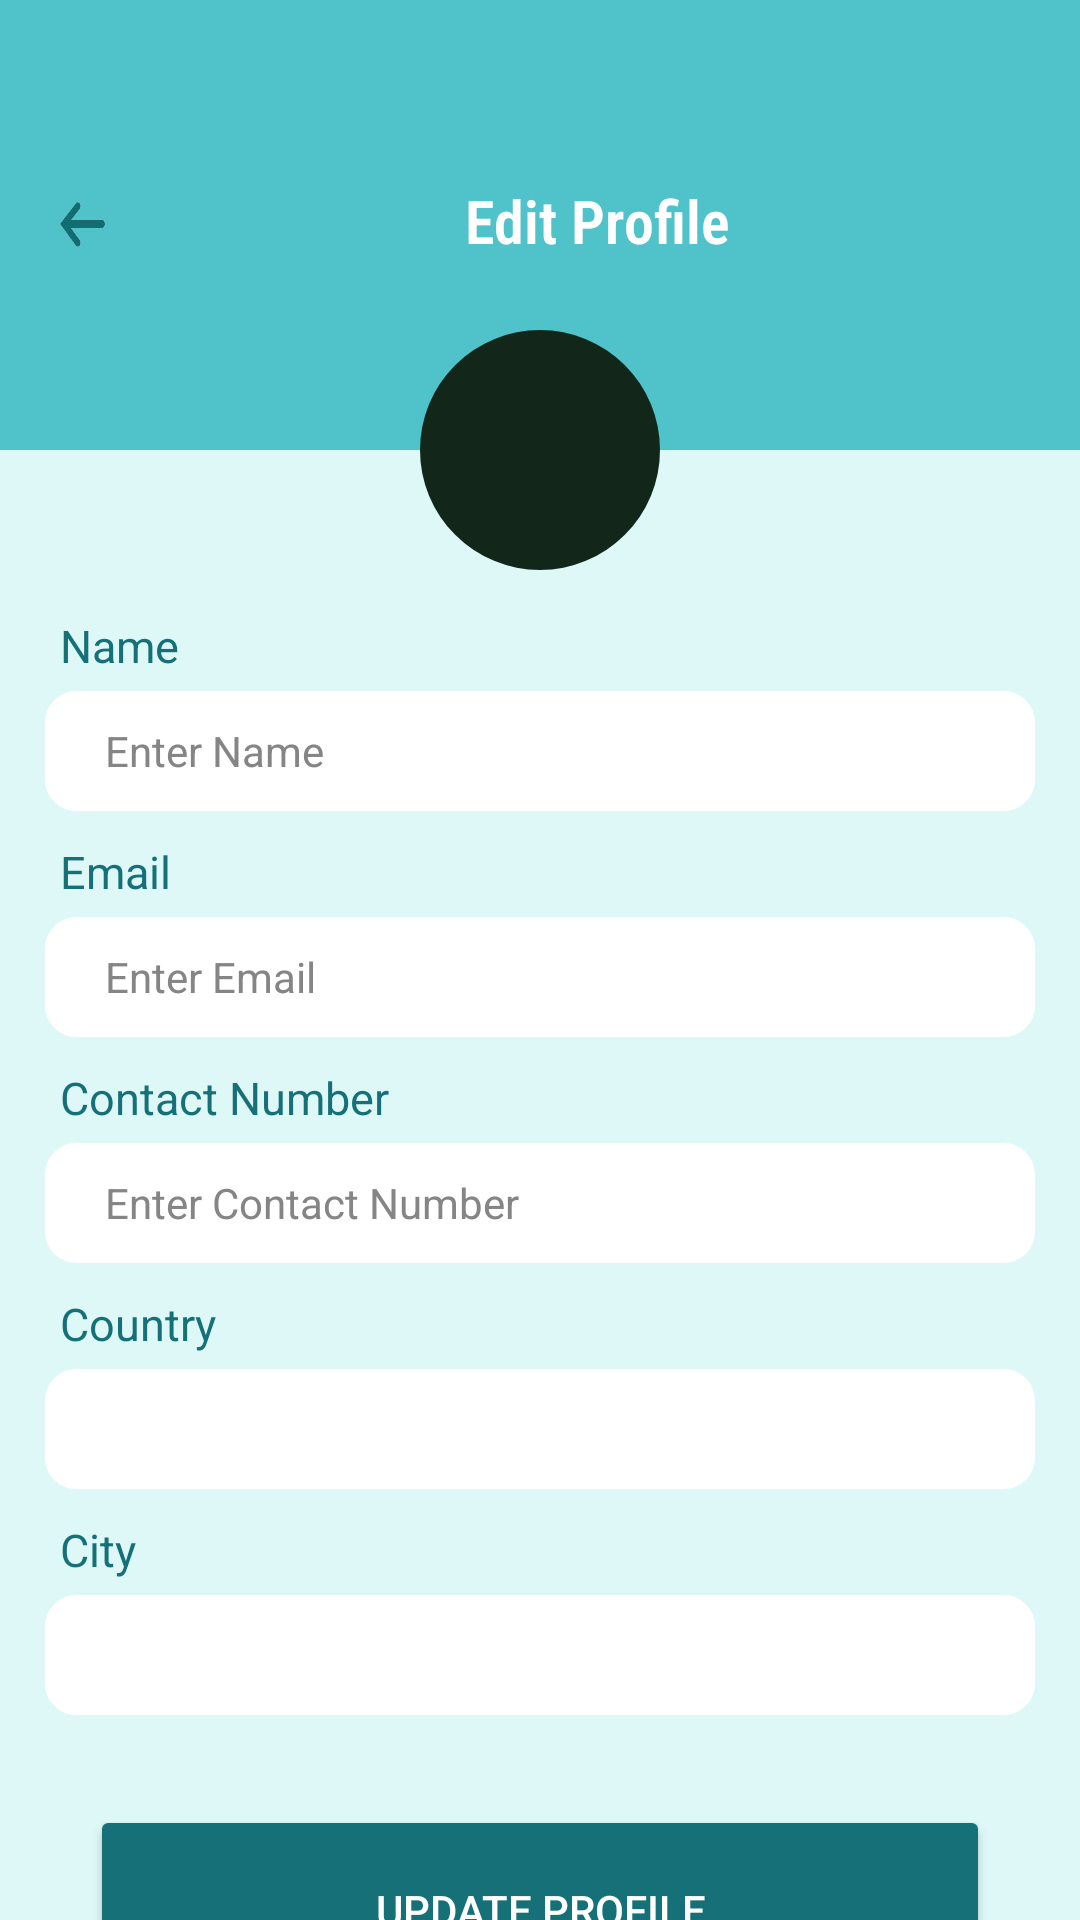

Point at icon controls on the screen. Image size 1080*1920, points as point (x, y).
back arrow: point (82, 224)
